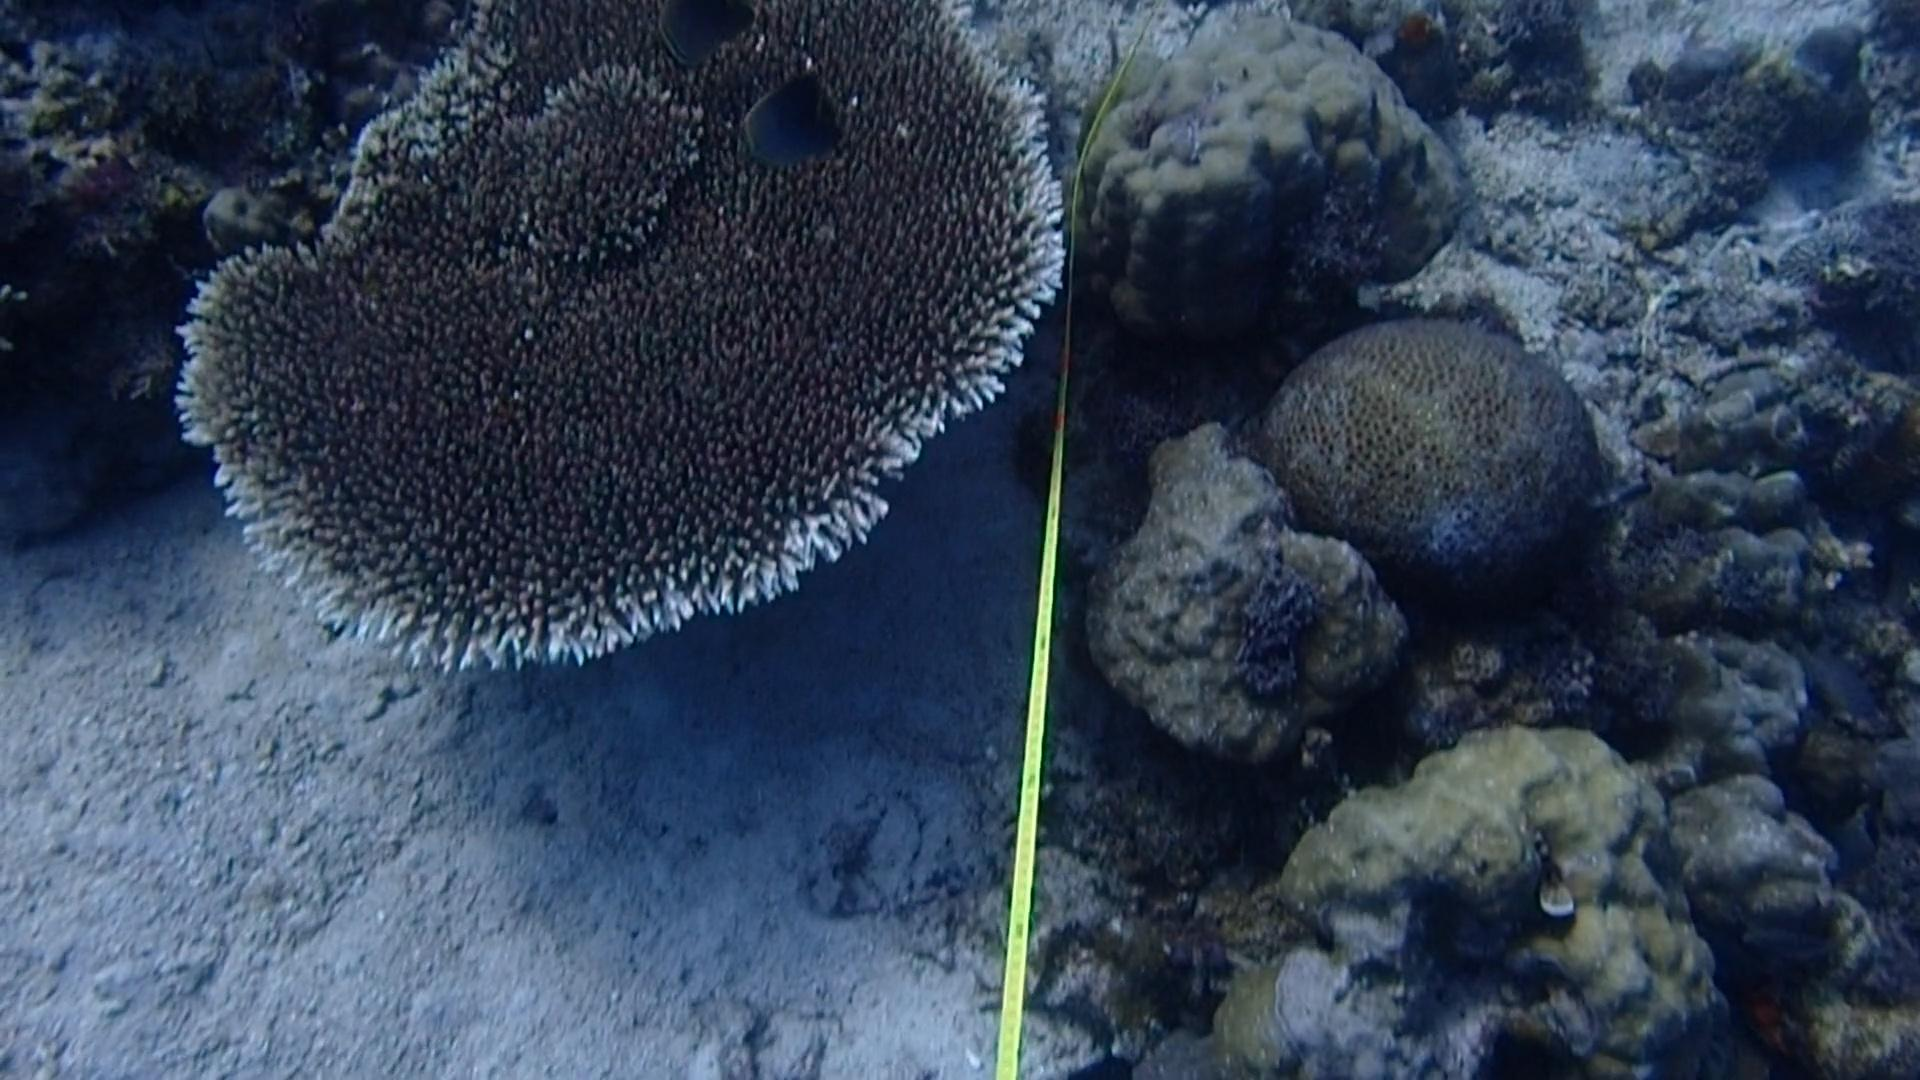Dark Blue Dory: (721, 51, 858, 182)
Light Fish: (1573, 452, 1668, 535), (1741, 918, 1847, 976)
